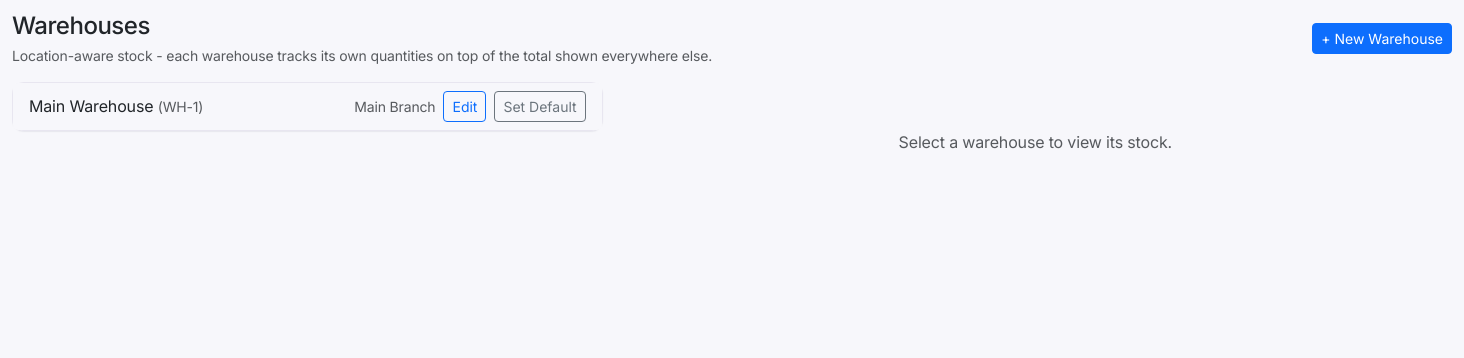
Warehouses page › Receive/Dispatch through the offline outbox (Phase 1.10) › a conflict at sync time (e.g. insufficient stock) surfaces an error without crashing
This screenshot has width=1464, height=358.
Step 1. Click the button "Main Warehouse (WH-1)" → {"x": 116, "y": 106}, box [29,94,203,118]
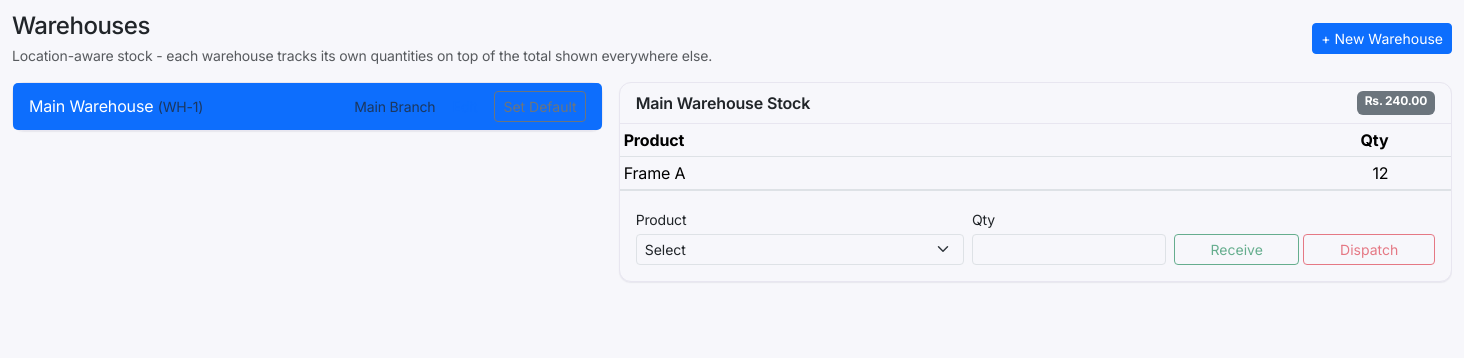
Step 2. Select "Frame A" in the dropdown → {"x": 800, "y": 249}, box [636,234,964,265]
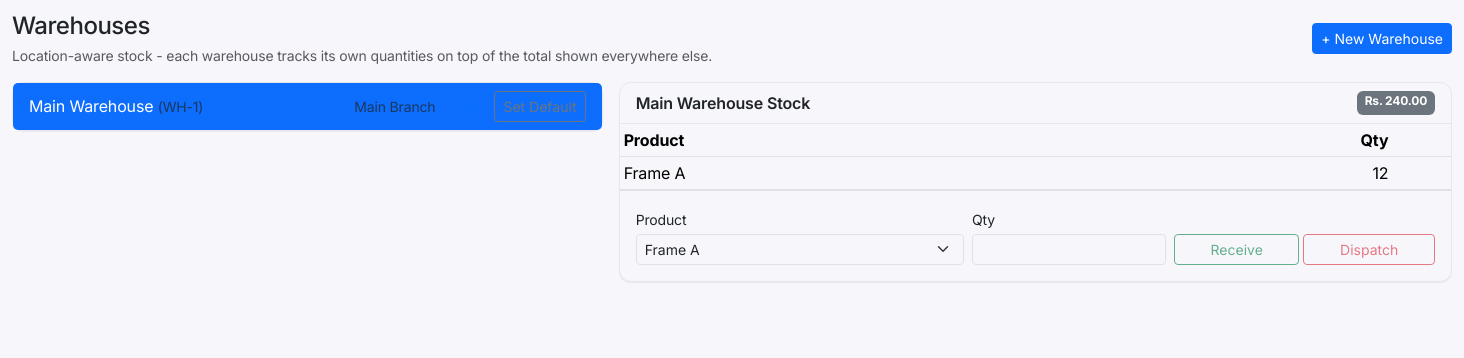
Step 3. Type "50" into the number field → {"x": 1069, "y": 249}, box [972,234,1166,265]
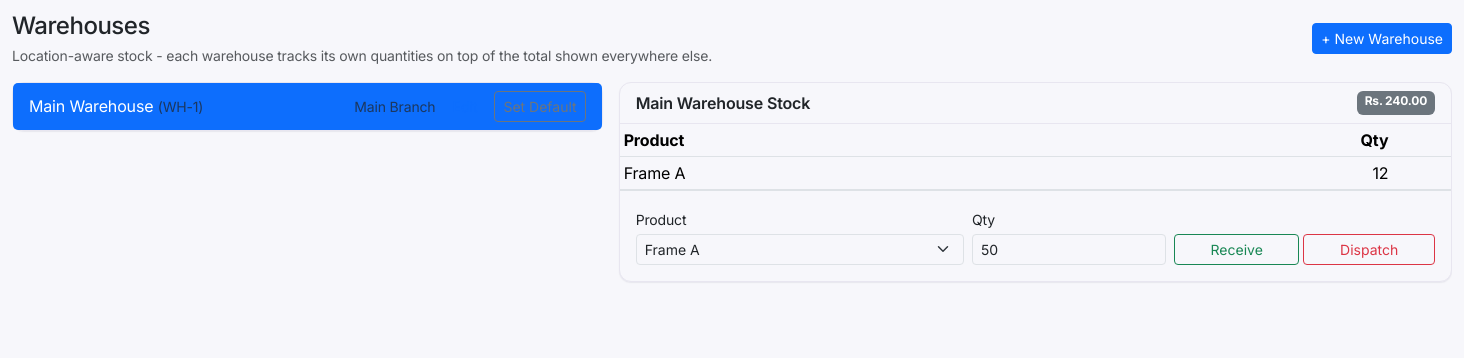
Step 4. Click the button "Dispatch" → {"x": 1369, "y": 249}, box [1304,234,1435,265]
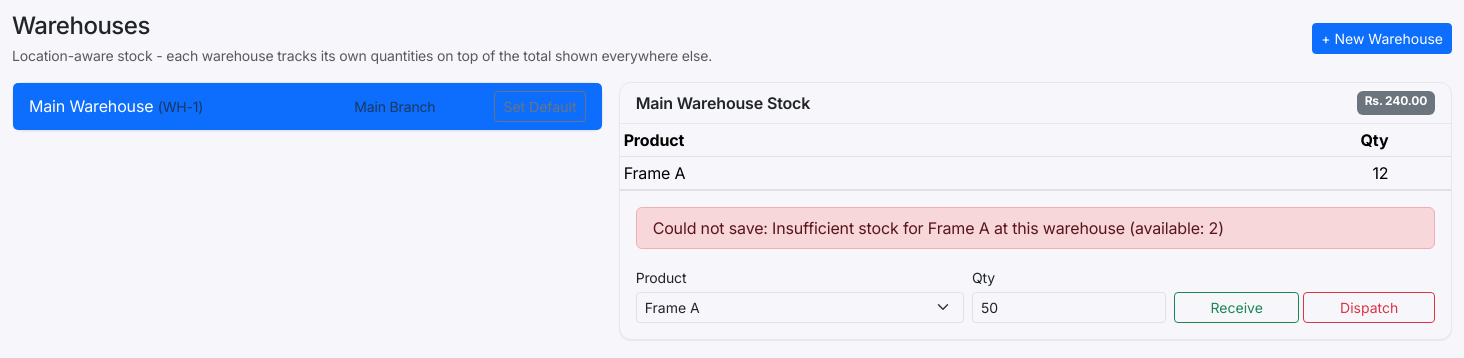
Result: the text "Could not save" is shown at [653,218,1224,238]
